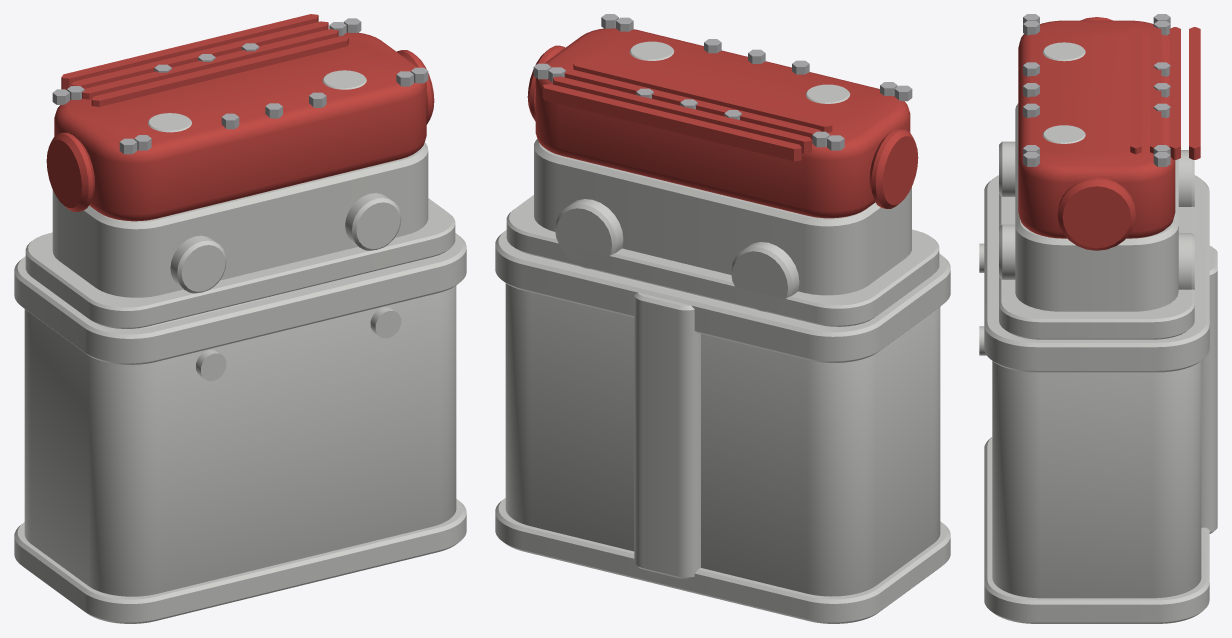
Rendered from hot_cam.glb.
3 views of the same model, side by side, from view 1: azimuth 30°, elevation 25°; view 2: azimuth 150°, elevation 25°; view 3: azimuth 270°, elevation 25° (orthographic). The views are drawn at different scales.
Parts seen in each view (by area): view 1: lod0; view 2: lod0; view 3: lod0.
Boxes of the visible parts, x1,y1,x2,y2 form: lod0: (14, 14, 466, 623); lod0: (495, 14, 950, 623); lod0: (979, 14, 1217, 623).
Size of what is drawn, in the model's own units: 0.258 by 0.3043 by 0.146.
